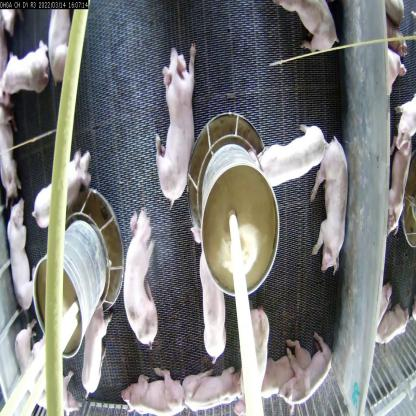Pig: (149, 44, 205, 211), (320, 131, 364, 277), (126, 200, 166, 356), (242, 122, 331, 188), (28, 153, 92, 230), (200, 225, 235, 359), (0, 38, 58, 106), (125, 356, 189, 416), (386, 113, 416, 240), (13, 323, 60, 395), (4, 199, 40, 292), (246, 299, 276, 404), (185, 370, 252, 415), (83, 293, 111, 400), (286, 350, 333, 412), (241, 356, 301, 401)
